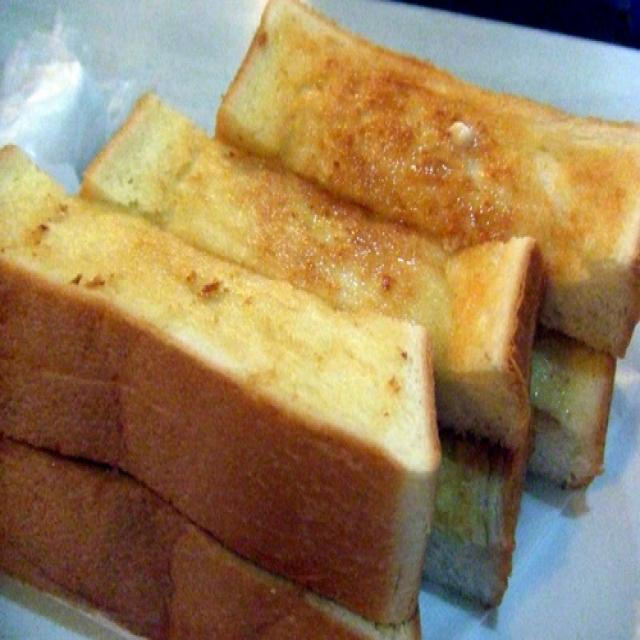面包点心: (0, 0, 633, 614)
